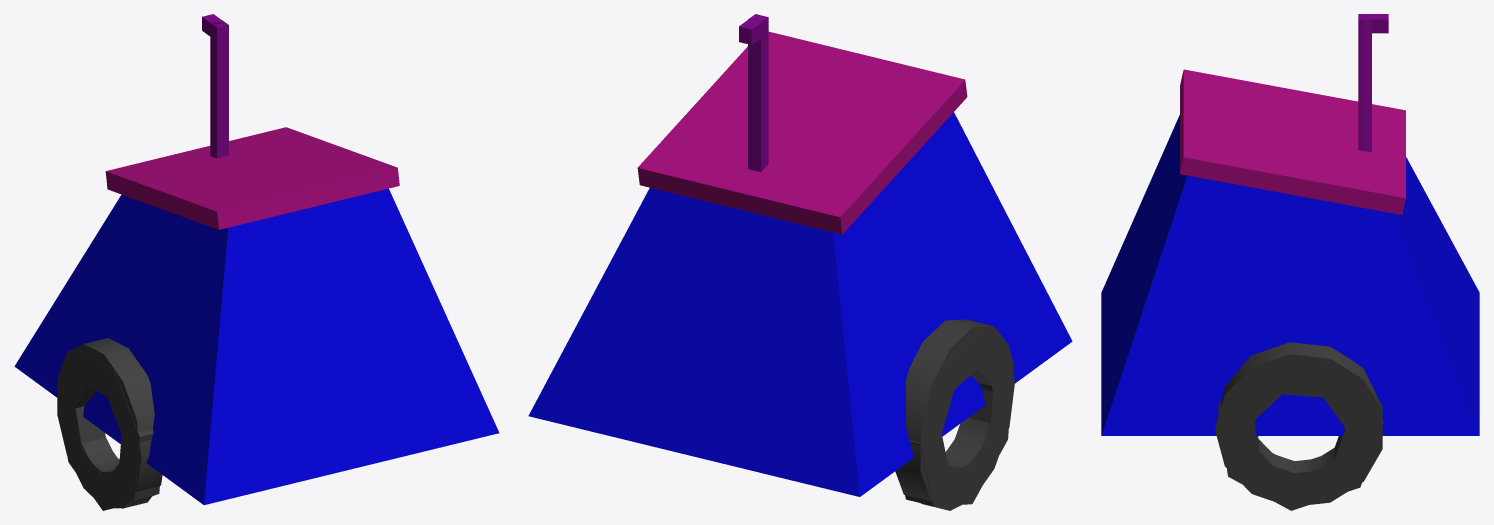
Rendered from car01.fbx.
The picture shows the model from 3 angles, left to right: view 1: azimuth 30°, elevation 25°; view 2: azimuth 150°, elevation 25°; view 3: azimuth 270°, elevation 25°; orthographic projection. The views are drawn at different scales.
Parts seen in each view (by area): view 1: lp_car01, hp_car01; view 2: hp_car01, lp_car01; view 3: lp_car01, hp_car01.
Boxes of the visible parts, x1,y1,x2,y2 form: lp_car01: (19, 20, 499, 510); hp_car01: (14, 14, 396, 508); hp_car01: (529, 14, 1072, 510); lp_car01: (528, 14, 1066, 506); lp_car01: (1101, 14, 1478, 510); hp_car01: (1184, 14, 1479, 504).
Size of the model in its own units: 185 by 246 by 200.
